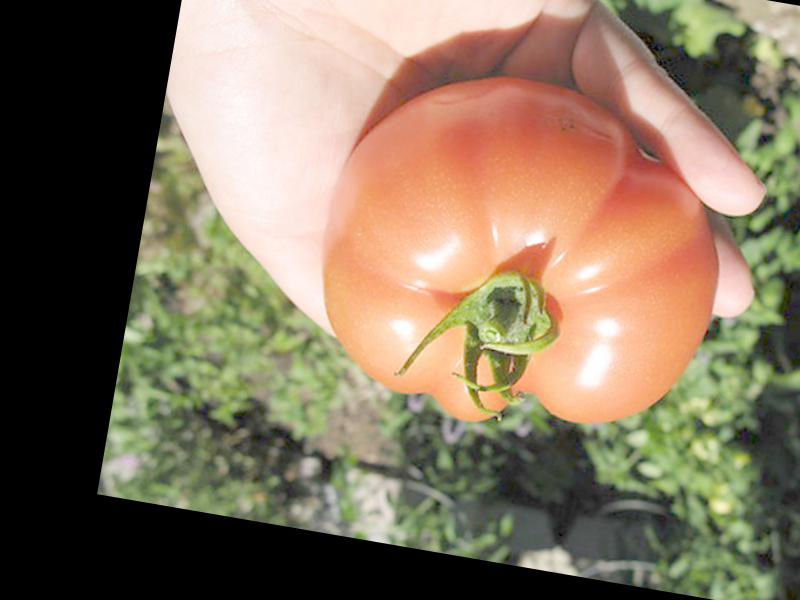Tomato: (301, 56, 745, 458)
